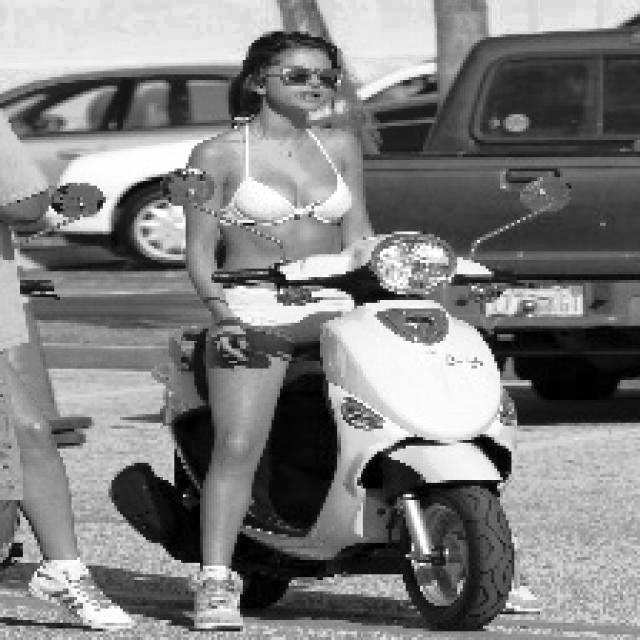Bike: (127, 250, 545, 627)
